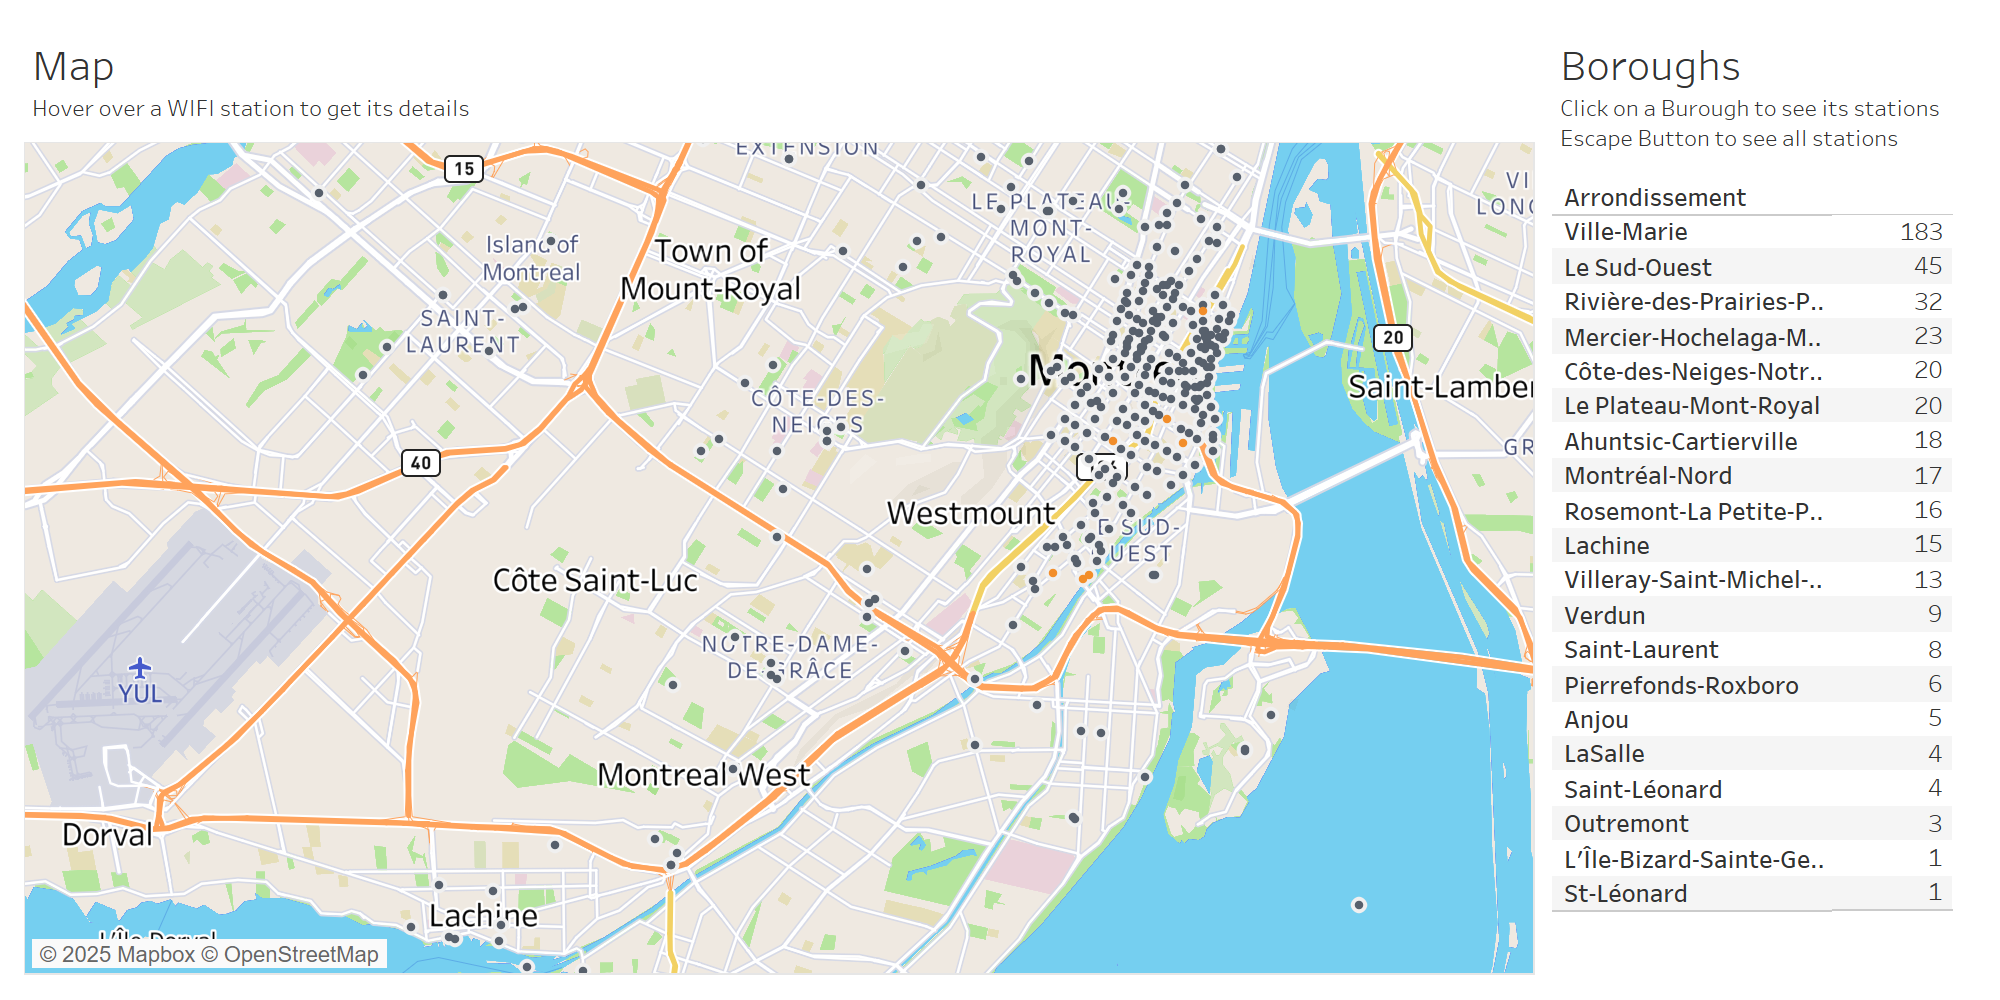

The page's visual inventory and layout, read from the dashboard file:
{"tool":"tableau","page":{"name":"Borough Dashboard","canvas":[1000,500],"ordinal":0},"visuals":[{"type":"worksheet","title":"Map","mark":"Automatic","rows":["Latitude"],"cols":["Longitude"],"box":[8,8,764,484]},{"type":"worksheet","title":"Boroughs","mark":"Automatic","rows":["Arrondissement"],"box":[772,8,220,484]}]}

Visuals, with their boxes in screenshot pixels (x1, y1, x2, y2), scaled from the page's 1000x500 canvas onto the 2000x1000 screenshot:
"Map" worksheet: bbox(16, 16, 1544, 984)
"Boroughs" worksheet: bbox(1544, 16, 1984, 984)
